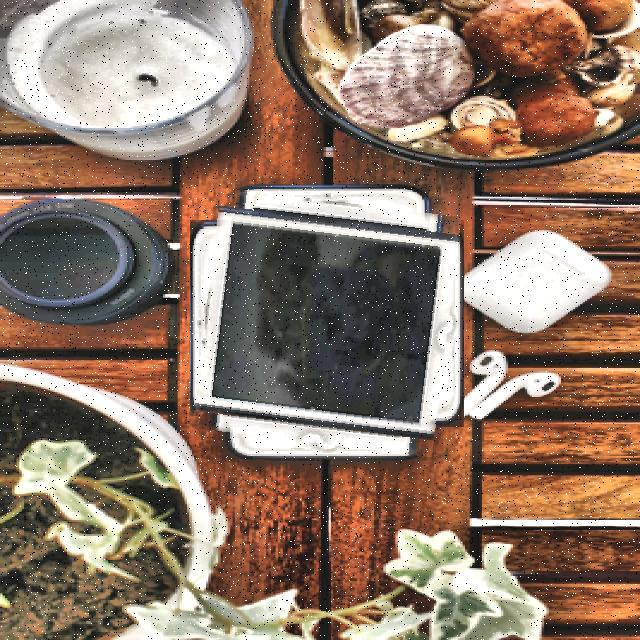Phone: (200, 195, 454, 450)
